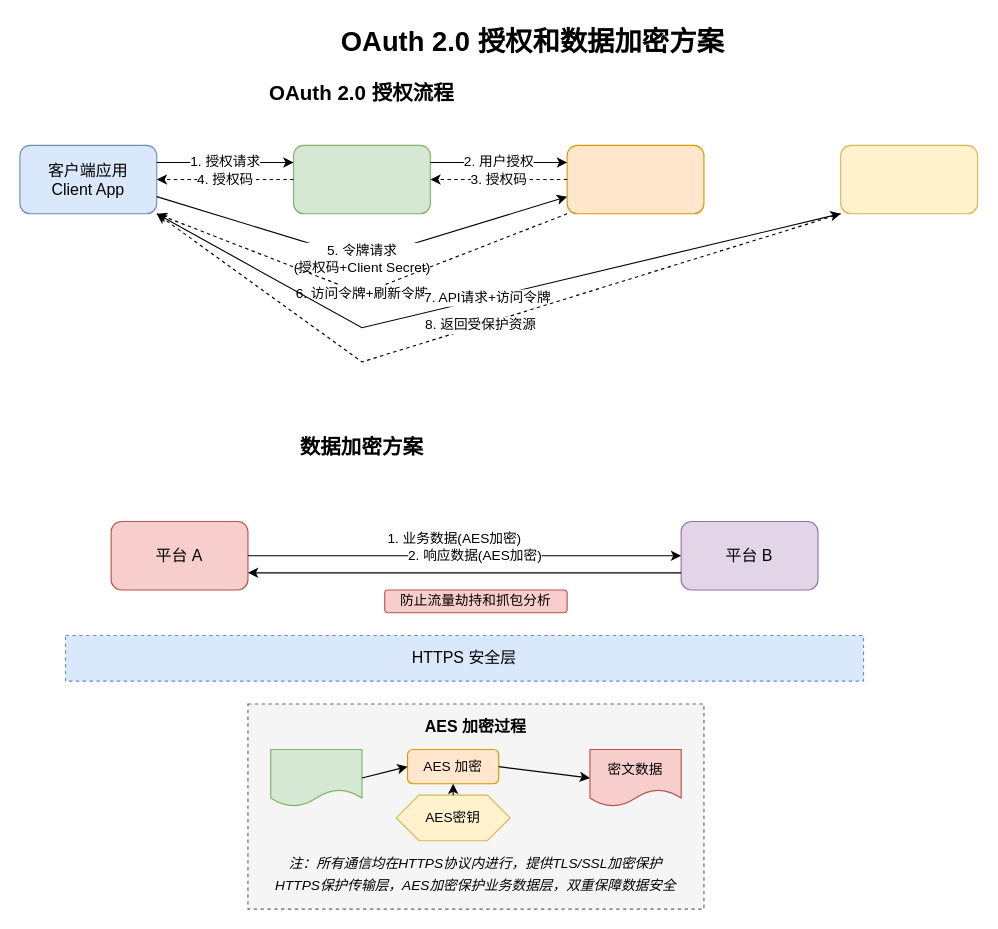
Image size: 998x929. Some labels were removed from this diagram. Here are the shapes that lost their labels. From the top down, the centre of each, then its label:
At (361,179): "资源所有者 Resource Owner".
At (635,179): "授权服务器 Authorization Server".
At (909,179): "资源服务器 Resource Server".
At (316,777): "明文数据".
